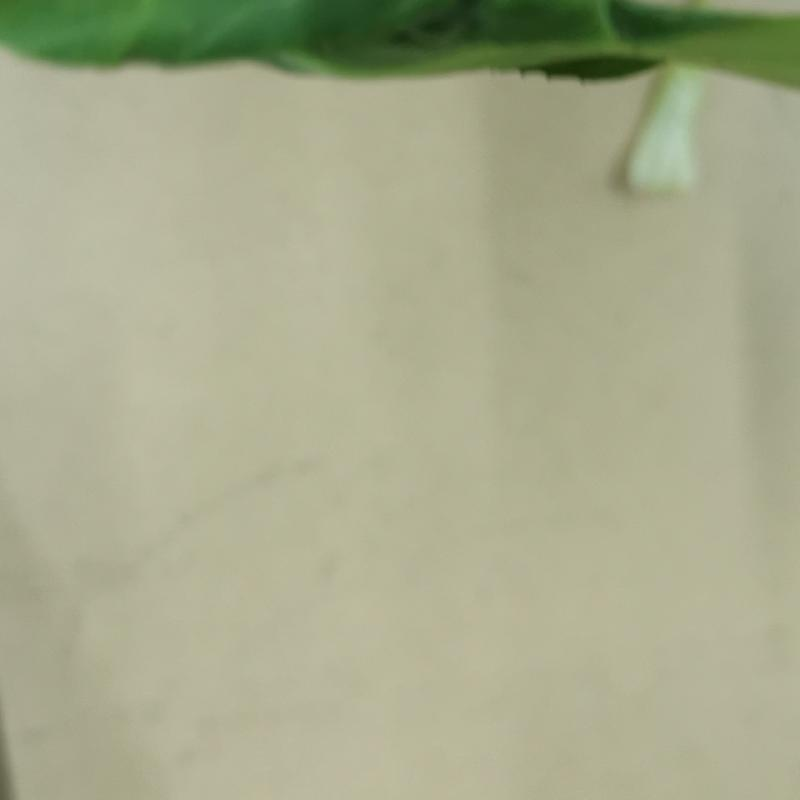green vegatable: (8, 1, 799, 202)
